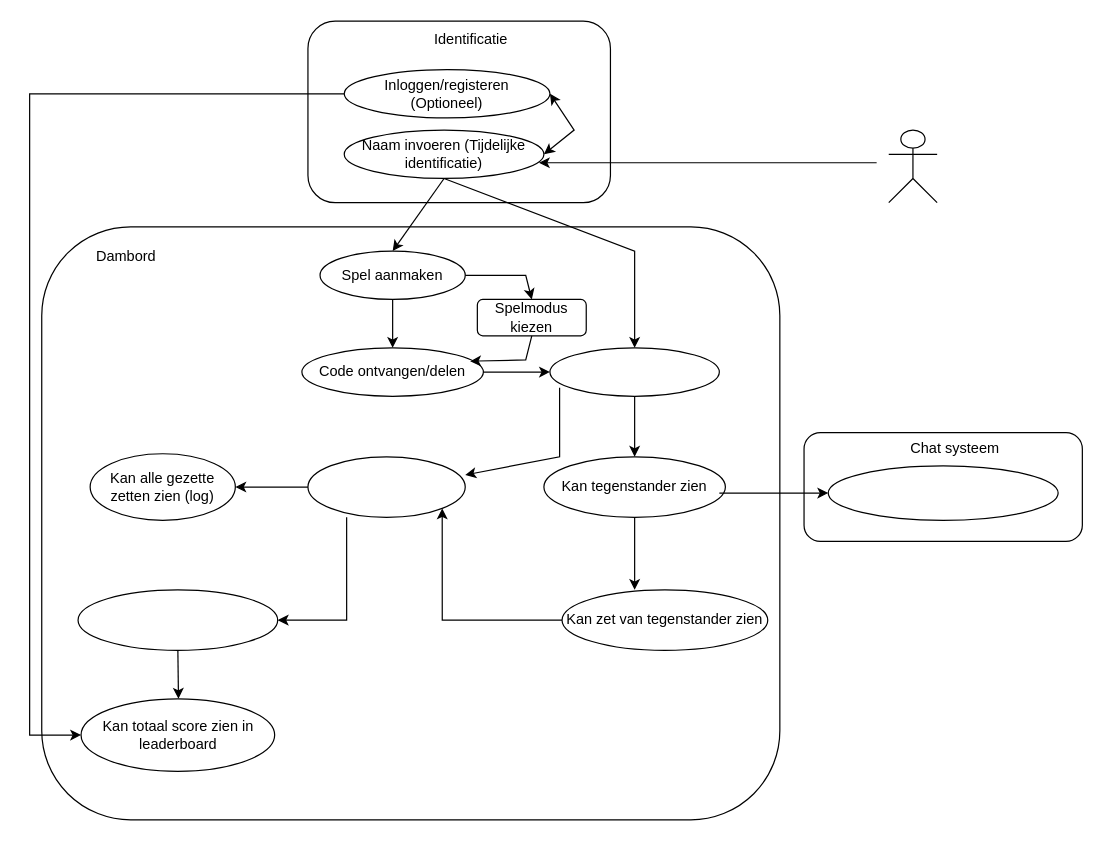
Image size: 1104x841. Some labels were removed from this diagram. The centre of each missing label's shape, as x and y in pixels:
"Kan chatten met tegenstander" goes at point (942, 492).
"Kan zet zetten" goes at point (386, 486).
"Spel joinen met code" goes at point (634, 371).
"User" goes at point (912, 166).
"User/tegenstander kan winnen" goes at point (177, 619).
